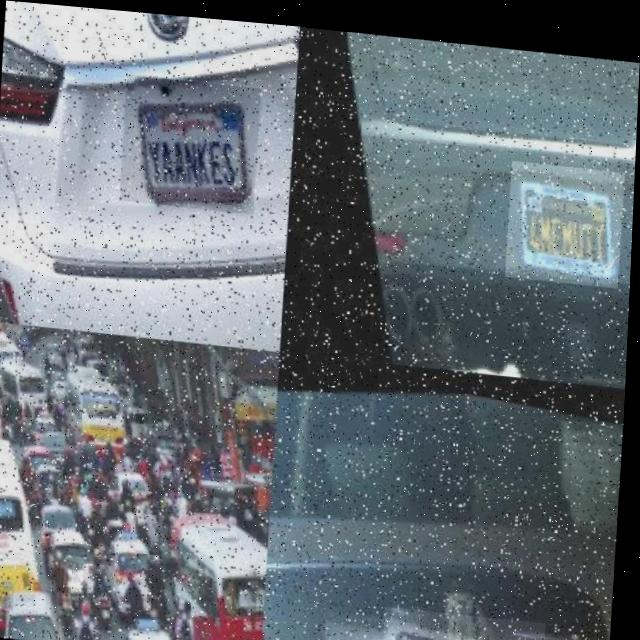LicensePlate: (121, 71, 262, 210), (506, 150, 626, 277), (386, 598, 550, 640), (68, 553, 89, 586), (1, 585, 19, 608), (252, 624, 269, 640), (137, 484, 148, 502), (167, 436, 178, 450), (137, 564, 147, 576), (59, 443, 68, 455), (139, 411, 148, 420)
